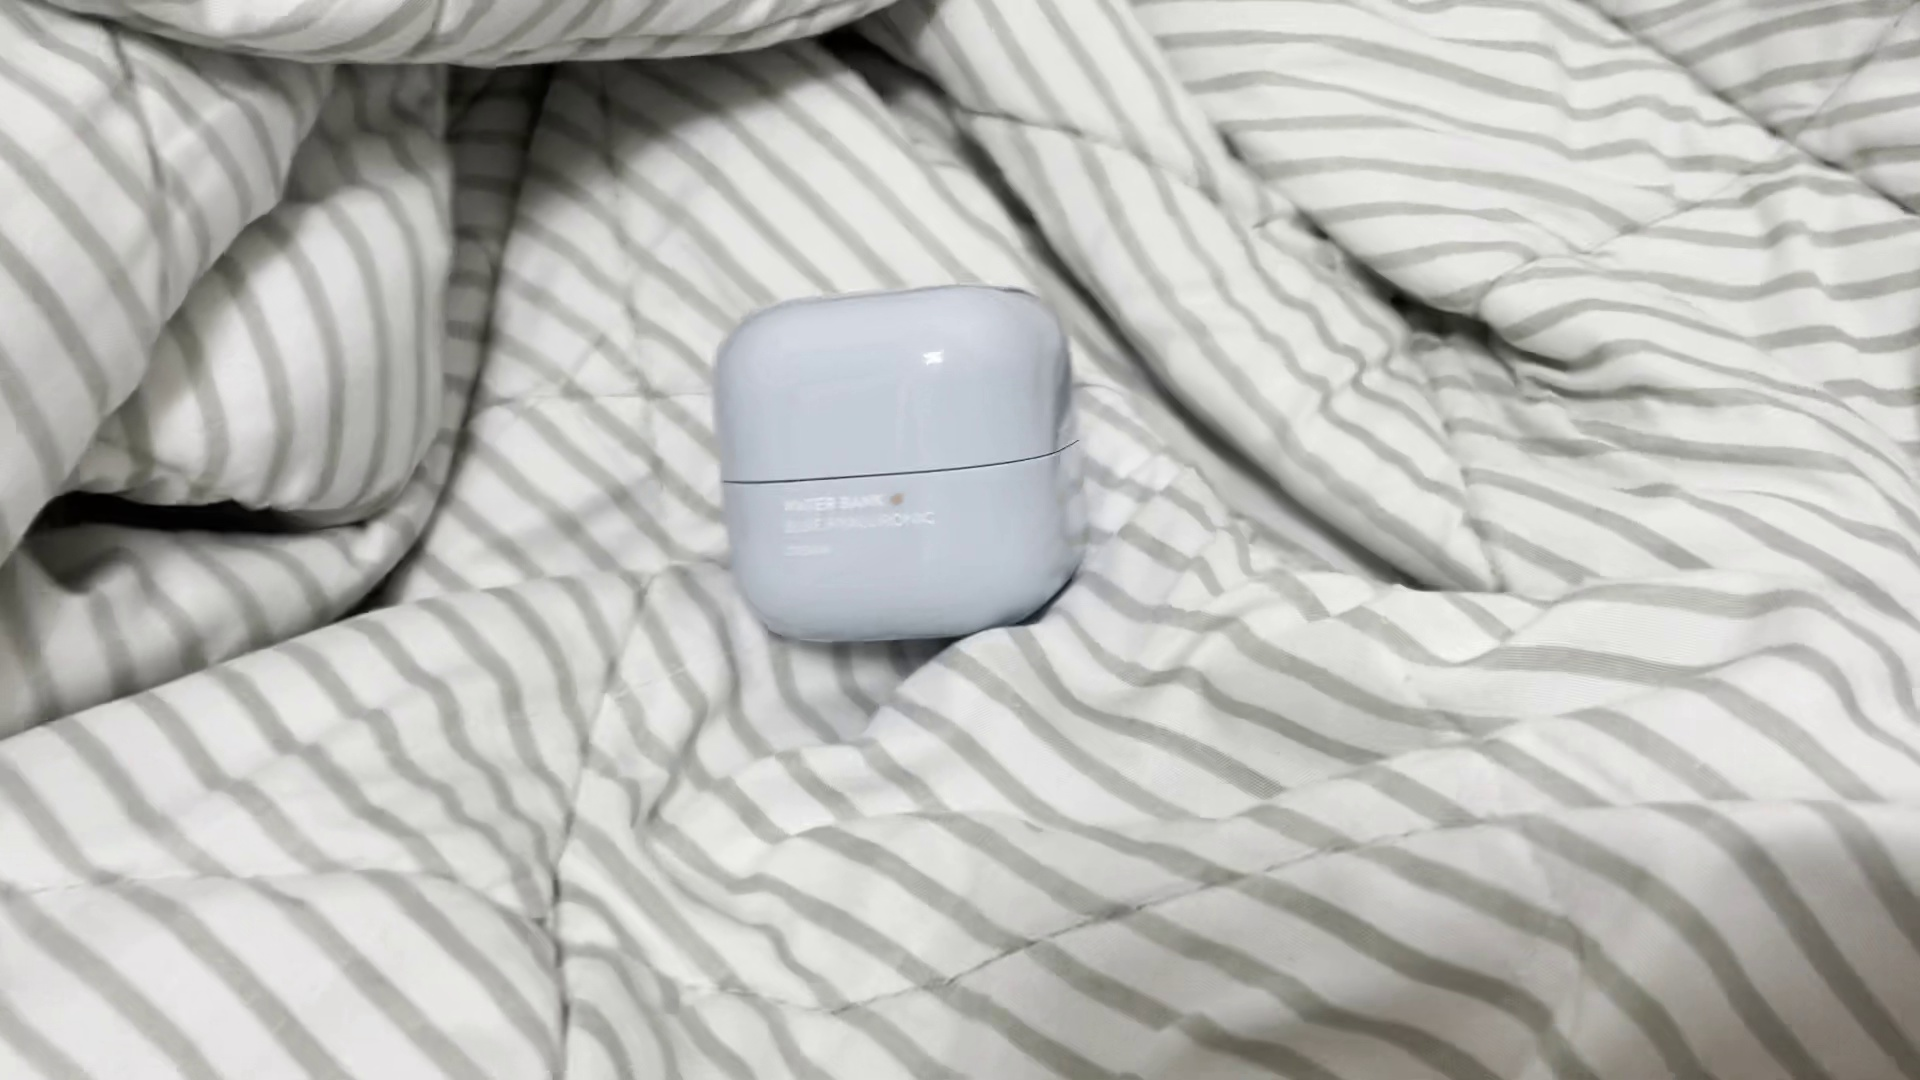cream: (720, 282, 1083, 651)
